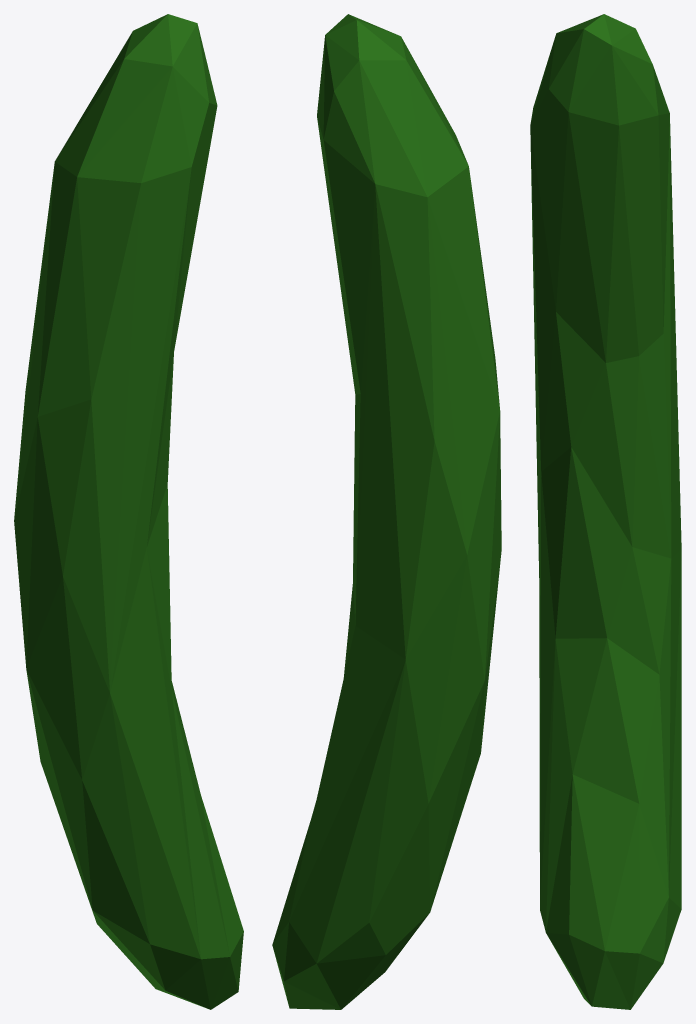
The model's file is Cucumber.fbx.
3 renders of one model, left to right at view 1: azimuth 30°, elevation 25°; view 2: azimuth 150°, elevation 25°; view 3: azimuth 270°, elevation 25°, orthographic. The views are drawn at different scales.
Parts seen in each view (by area): view 1: Cucumber; view 2: Cucumber; view 3: Cucumber.
Boxes of the visible parts, box(x1,y1,x2,y2) form: Cucumber: box(14, 14, 243, 1009); Cucumber: box(272, 14, 501, 1009); Cucumber: box(530, 14, 681, 1009).
Bounding box in the file's own units: 132 × 598 × 84.59.
